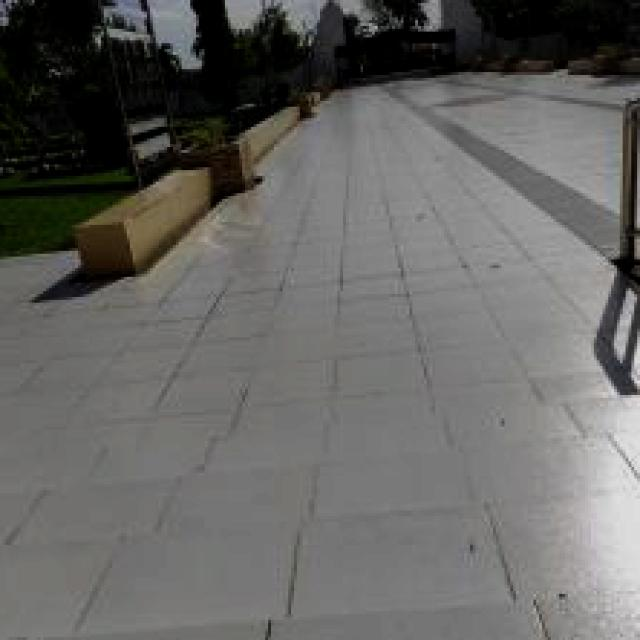downstair: (10, 445, 627, 640)
